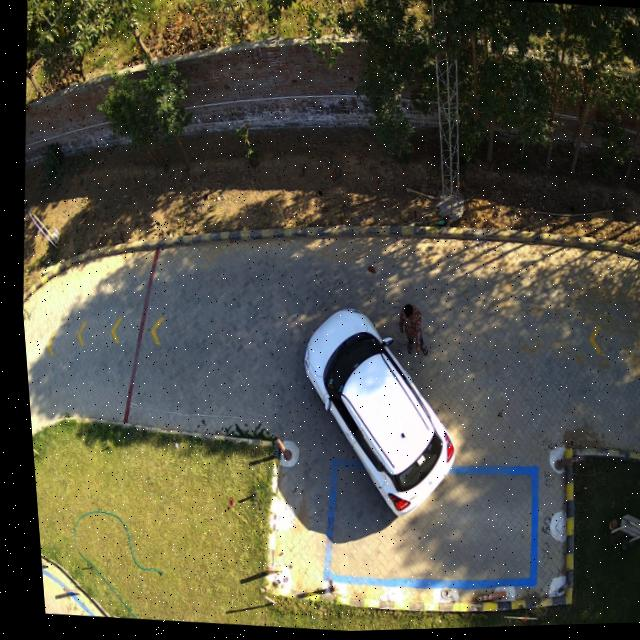car: (298, 310, 447, 519)
